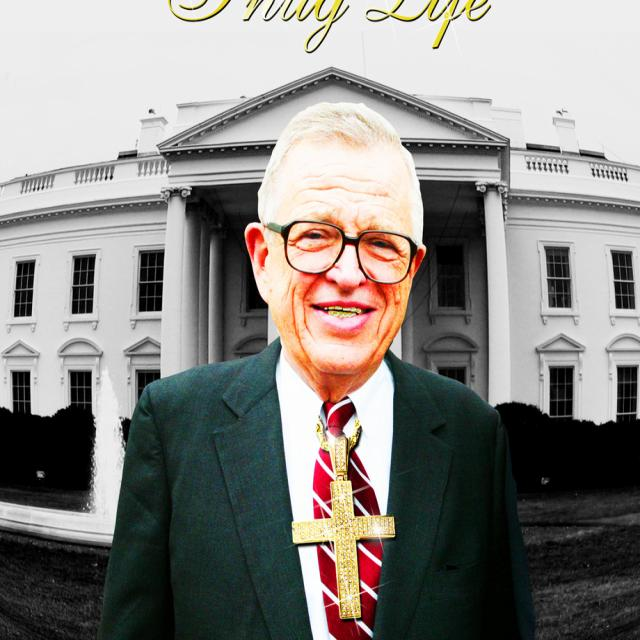Glasses: (263, 217, 426, 290)
